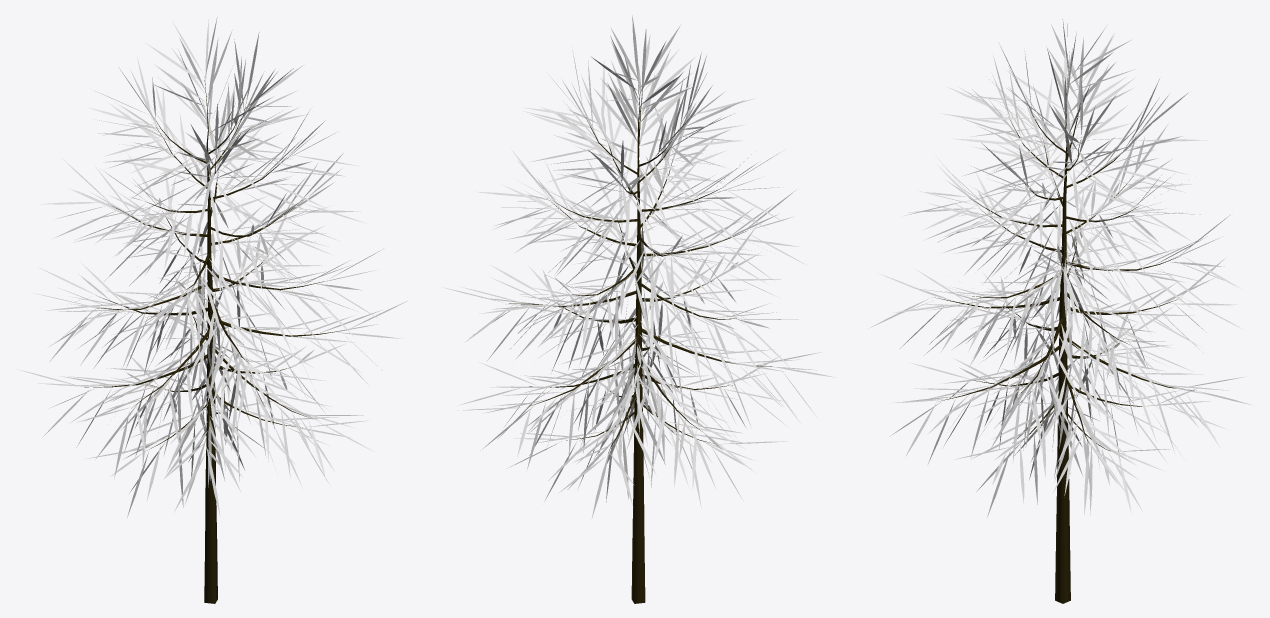
Rendered from LowPolyTree4.fbx.
The picture shows the model from 3 angles, left to right: view 1: azimuth 30°, elevation 25°; view 2: azimuth 150°, elevation 25°; view 3: azimuth 270°, elevation 25°; orthographic projection.
Visible parts, largest first — view 1: tree; view 2: tree; view 3: tree.
Part boxes in pixels (<box>): tree: <box>17,17,407,603</box>; tree: <box>442,15,835,603</box>; tree: <box>868,19,1253,603</box>.
Bounding box in the file's own units: 1190 × 1936 × 1160.
